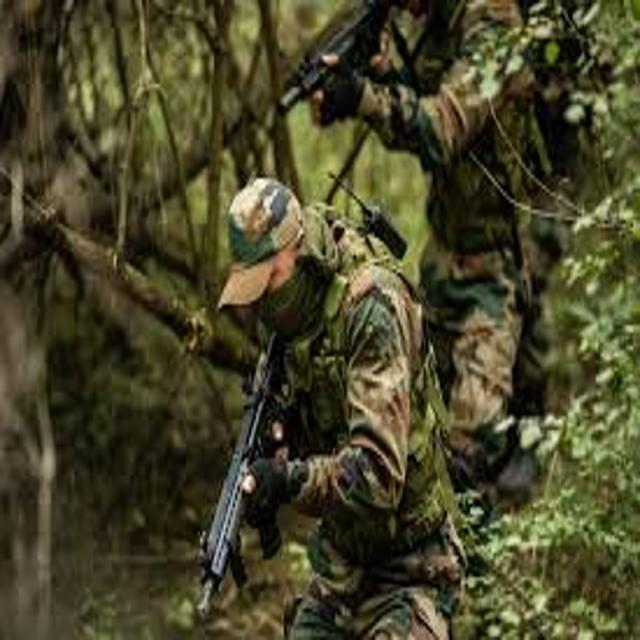gun: (155, 293, 320, 634)
ranger: (110, 160, 549, 639)
